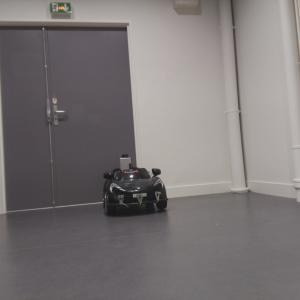big: (100, 164, 170, 217)
